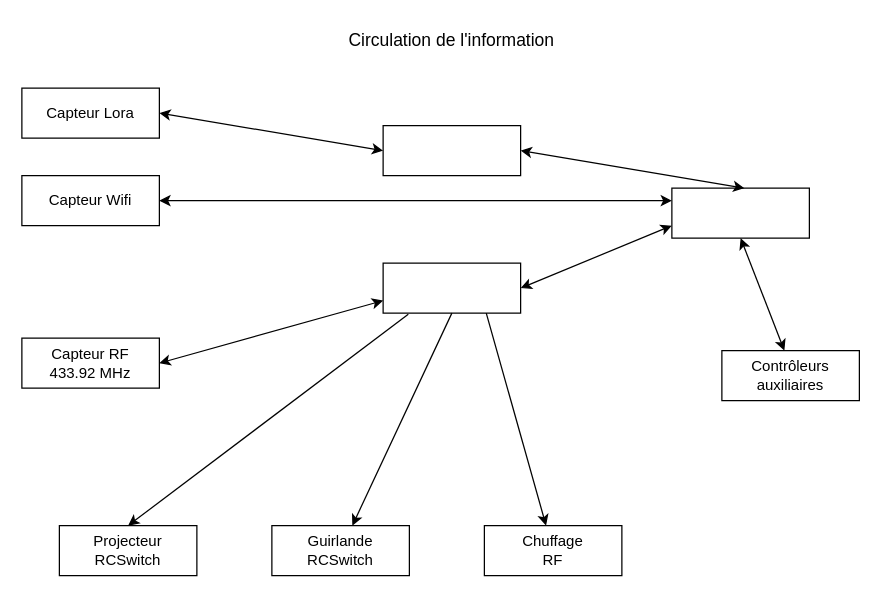
The diagram is 881 pixels wide and 598 high, and some of its shapes have lost their labels. The shapes that lost their labels are listed below. From the top down, each one's box as (x1, y1, x2, y2) in pixels, then its label:
(382, 124, 521, 176): Relais Lora/MQTT
(671, 187, 809, 238): MQTT broker
(382, 262, 521, 313): Contrôleur primaire
